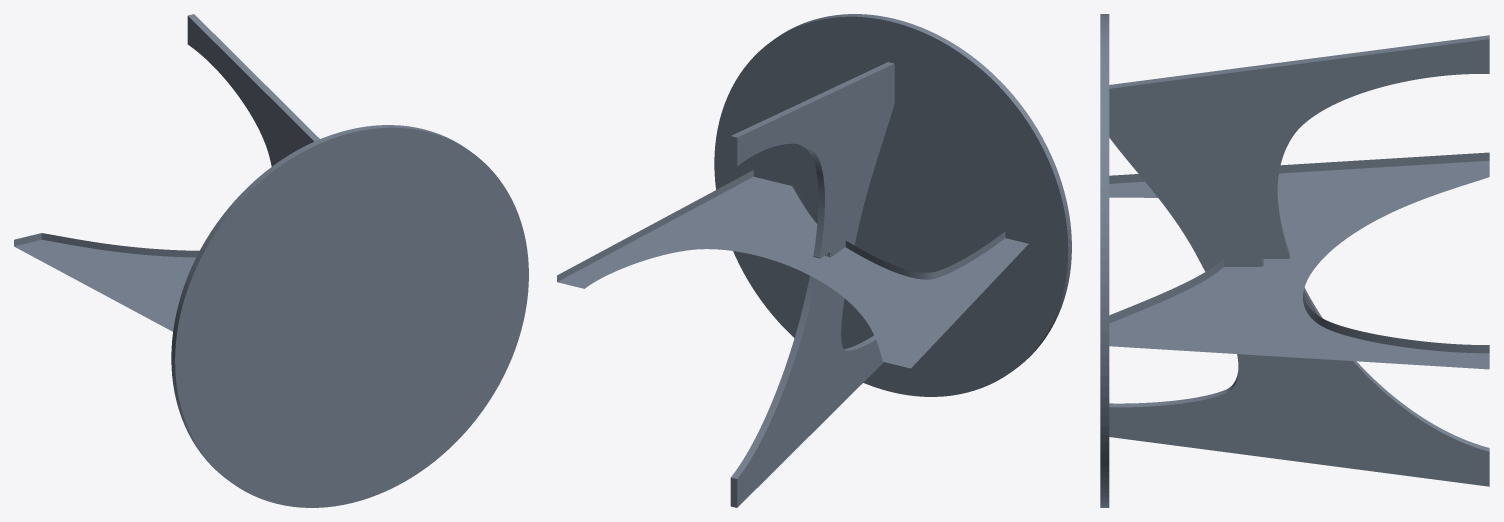
Rendered from NODO_MESA_REDONDA_CRUZ_CUARZO_V2.glb.
The picture shows the model from 3 angles, left to right: view 1: azimuth 30°, elevation 25°; view 2: azimuth 150°, elevation 25°; view 3: azimuth 270°, elevation 25°; orthographic projection. The views are drawn at different scales.
Parts seen in each view (by area): view 1: Tapa_D1000, Pata_A, Pata_B; view 2: Tapa_D1000, Pata_B, Pata_A; view 3: Pata_B, Pata_A, Tapa_D1000.
Boxes of the visible parts, x1=… form: Tapa_D1000: x1=171, y1=125, x2=528, y2=507; Pata_A: x1=14, y1=233, x2=199, y2=331; Pata_B: x1=187, y1=14, x2=319, y2=166; Tapa_D1000: x1=714, y1=14, x2=1071, y2=396; Pata_B: x1=730, y1=62, x2=894, y2=507; Pata_A: x1=557, y1=170, x2=1028, y2=368; Pata_B: x1=1109, y1=35, x2=1489, y2=486; Pata_A: x1=1109, y1=152, x2=1489, y2=369; Tapa_D1000: x1=1100, y1=14, x2=1109, y2=507.
Bounding box in the file's own units: 1000 × 1000 × 788.
